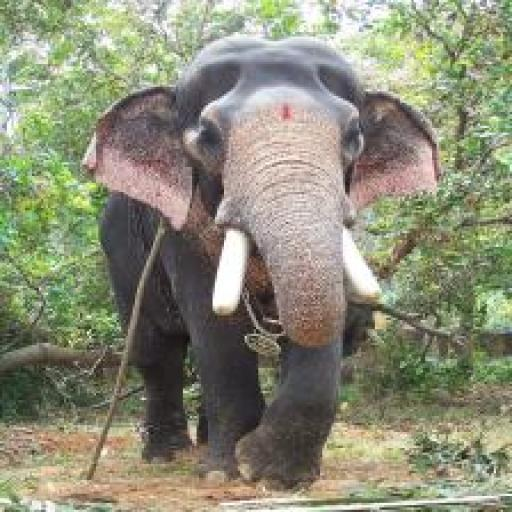Elephant: (87, 30, 452, 498)
